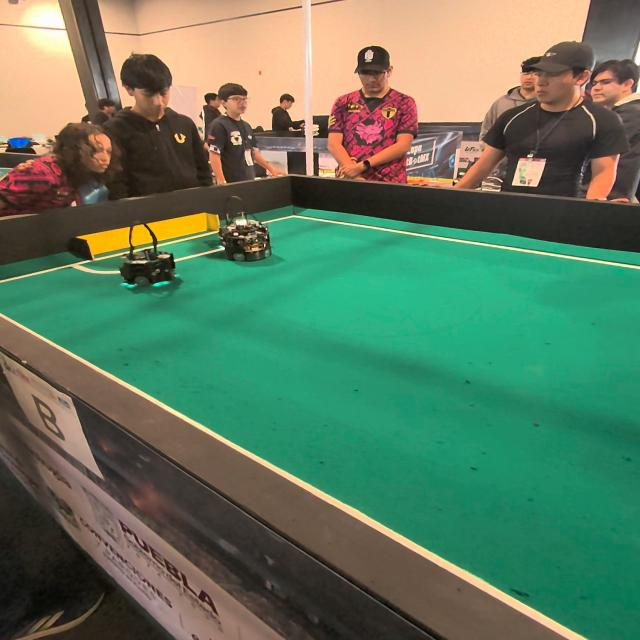Robot: (120, 220, 183, 300), (216, 190, 272, 262)
